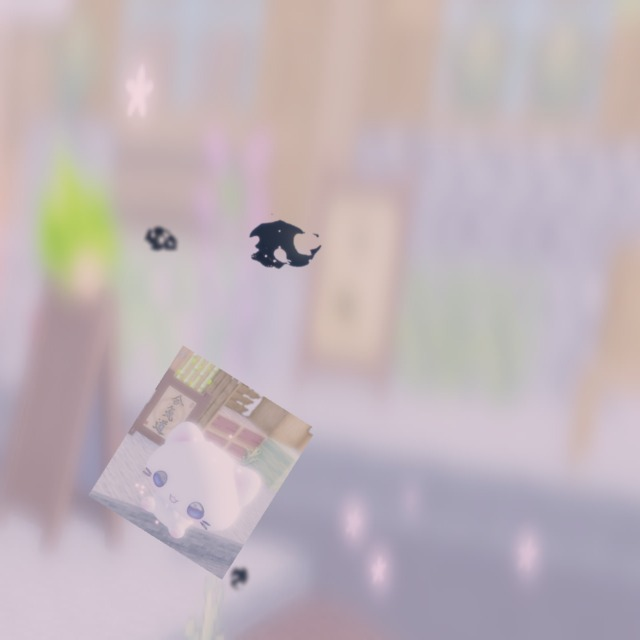urso_branco: (88, 345, 317, 580)
urso_preto: (230, 201, 337, 289), (142, 223, 184, 259), (224, 561, 254, 596)
